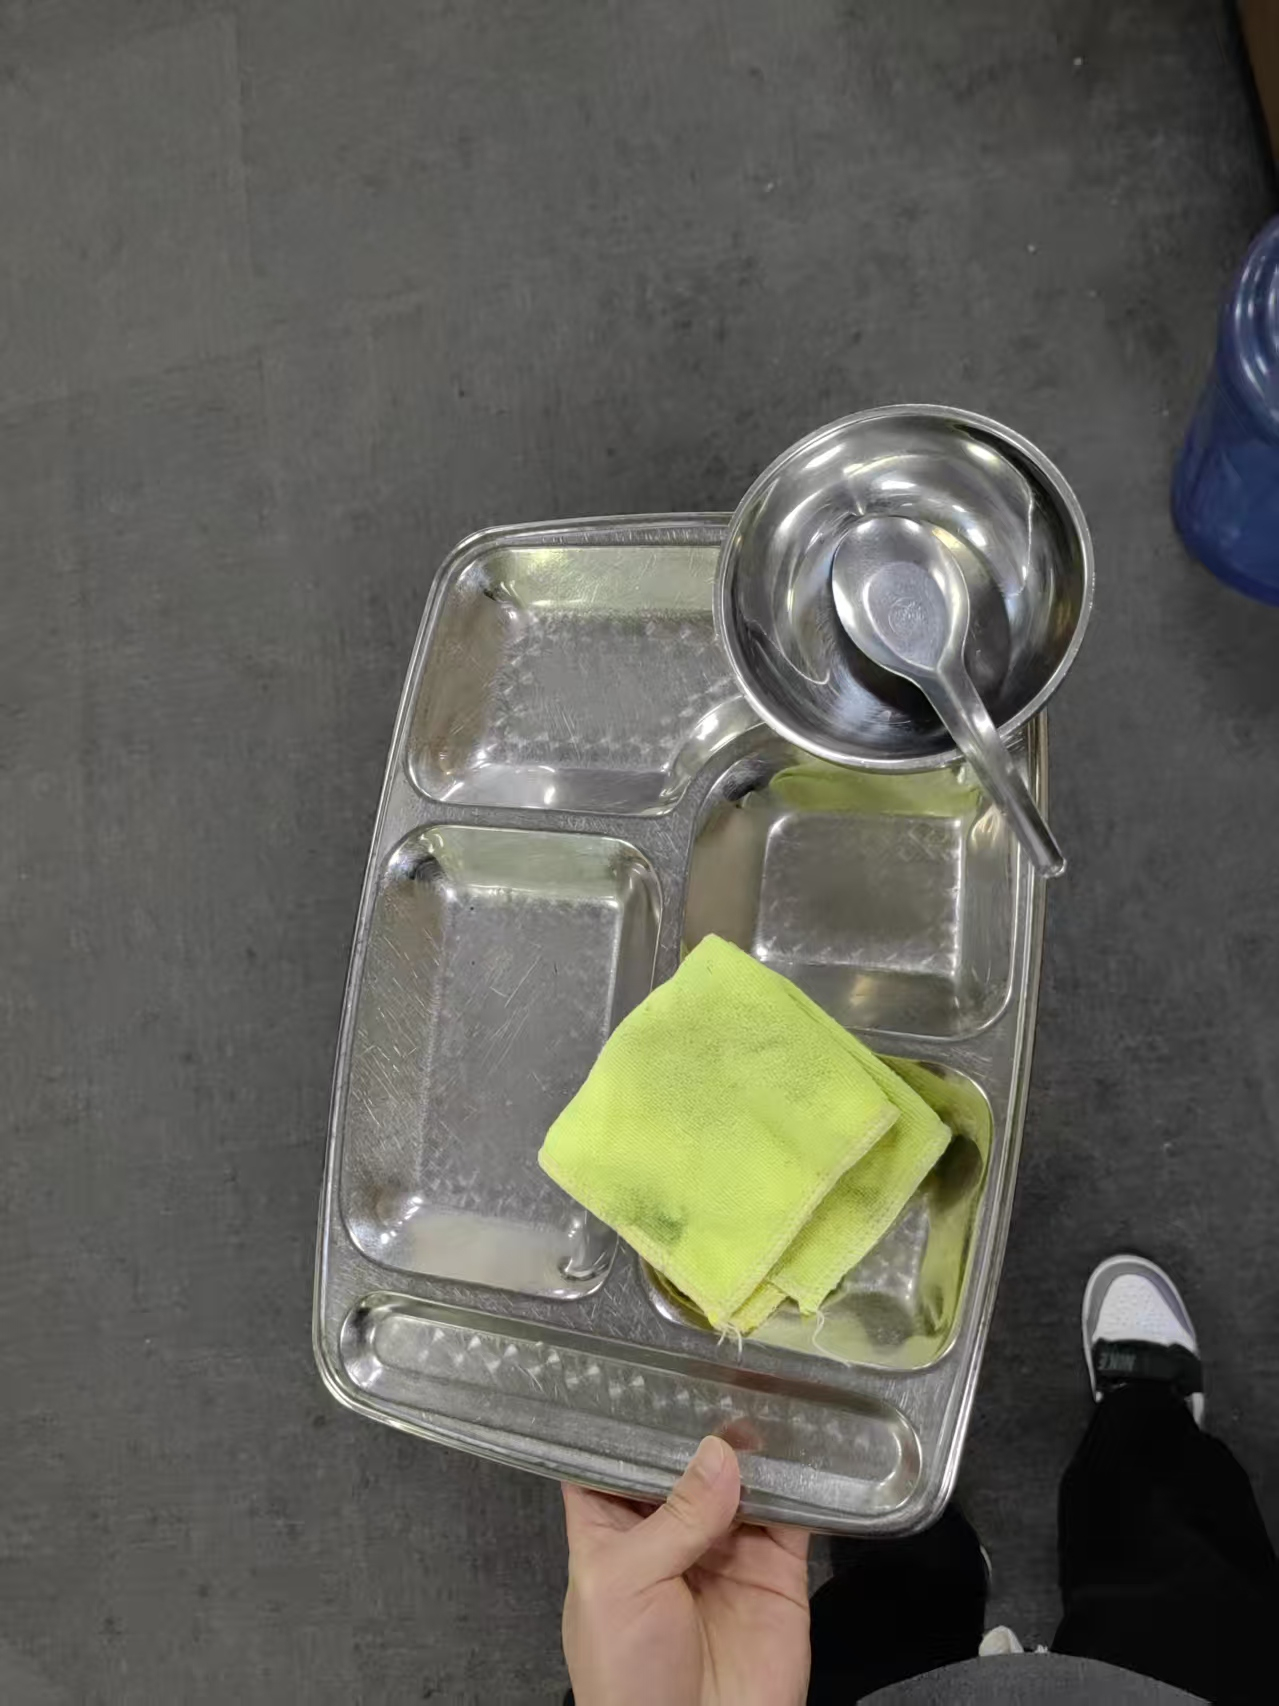mild: (536, 934, 954, 1347)
plate: (311, 506, 1049, 1539)
